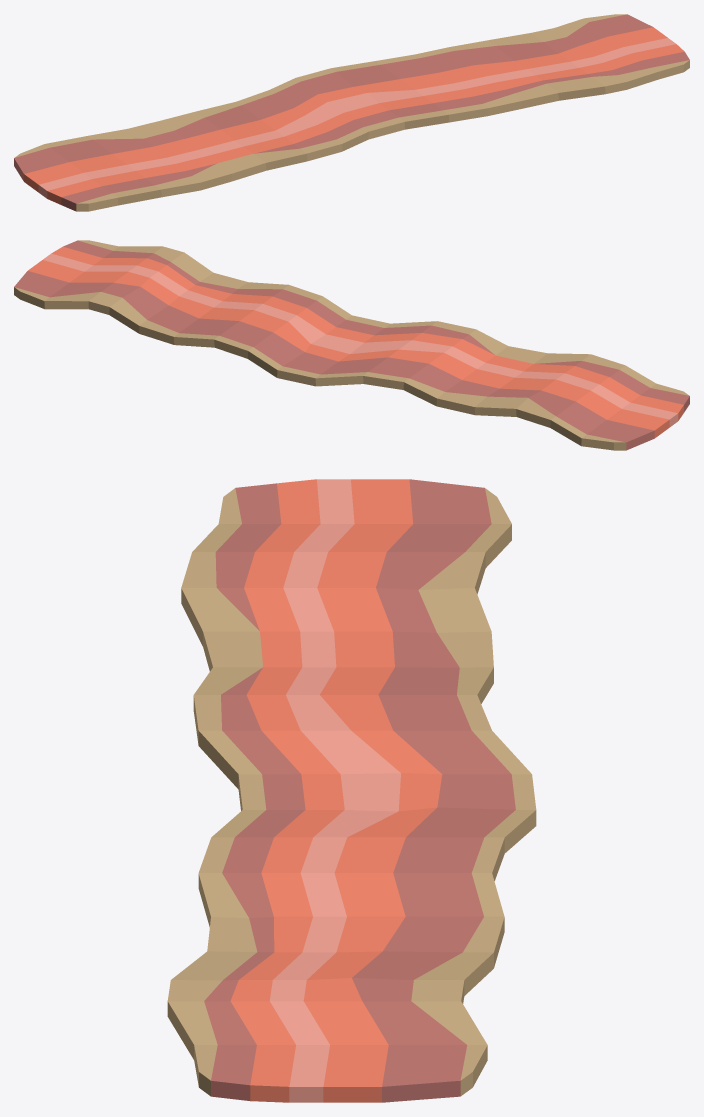
File: Bacon.fbx
The picture shows the model from 3 angles, top to bottom: view 1: azimuth 30°, elevation 25°; view 2: azimuth 150°, elevation 25°; view 3: azimuth 270°, elevation 25°; orthographic projection. The views are drawn at different scales.
Parts seen in each view (by area): view 1: Bacon_Uncooked; view 2: Bacon_Uncooked; view 3: Bacon_Uncooked.
Boxes of the visible parts, x1,y1,x2,y2 form: Bacon_Uncooked: (14,14,689,211); Bacon_Uncooked: (14,240,689,450); Bacon_Uncooked: (167,479,536,1102).
Bounding box in the file's own units: 23.15 × 0.4254 × 5.94.
